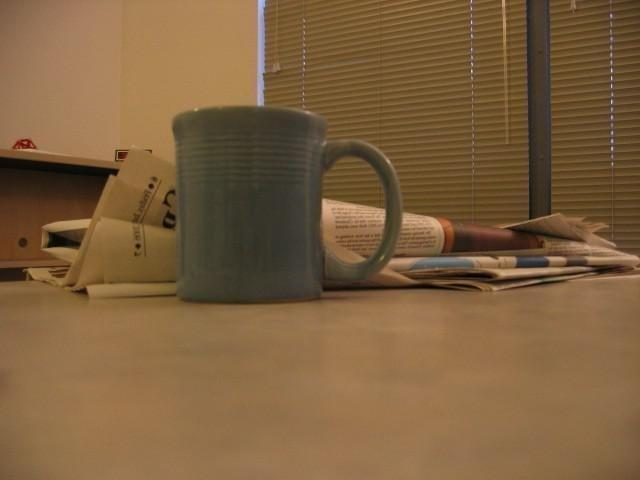cup-handle: (172, 105, 401, 307)
